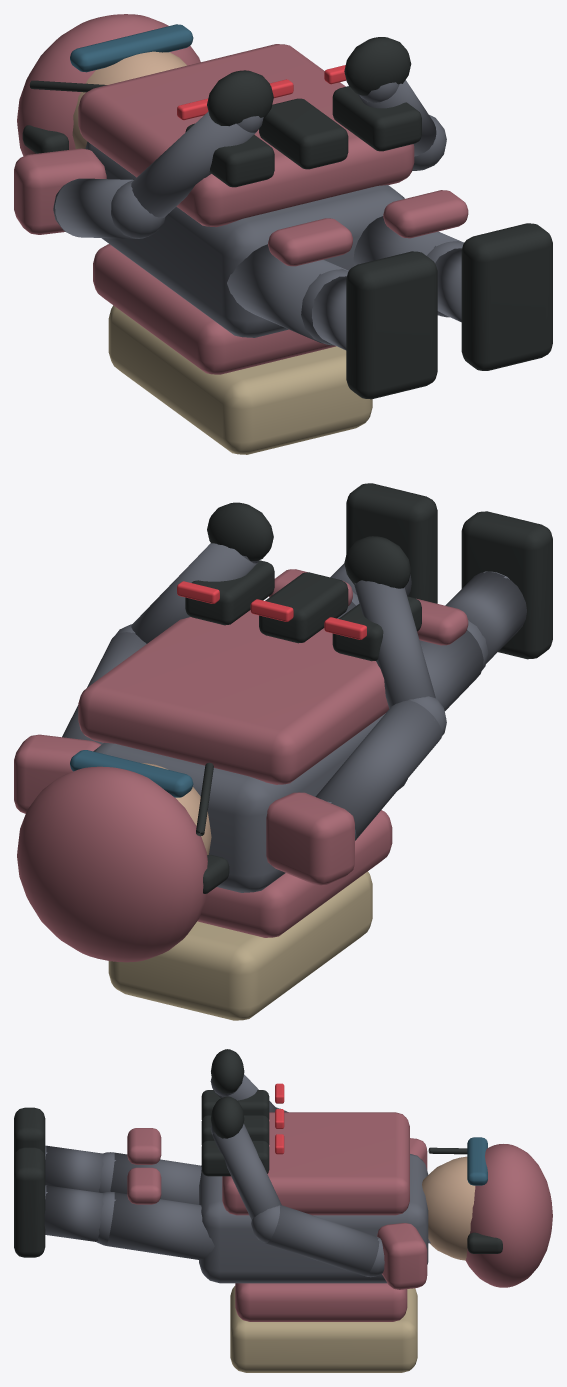
Rendered from character_enemy_final.glb.
3 views of the same model, one above another, from view 1: azimuth 30°, elevation 25°; view 2: azimuth 150°, elevation 25°; view 3: azimuth 270°, elevation 25° (orthographic). The views are drawn at different scales.
Parts seen in each view (by area): view 1: front_plate_carrier_with_beveled_ceramic_panel, hydration_backpack_and_radio_pack, anatomical_torso_underlayer, boot_with_sculpted_sole_-0.18, boot_with_sculpted_sole_0.18, rear_plate_carrier_panel, ballistic_helmet_shell, forearm_glove_sleeve_-0.39, upper_leg_fatigues_-0.18, shoulder_armor_pad_-0.39, front_magazine_pouch_0, front_magazine_pouch_0.23 (+17 smaller); view 2: front_plate_carrier_with_beveled_ceramic_panel, ballistic_helmet_shell, hydration_backpack_and_radio_pack, anatomical_torso_underlayer, boot_with_sculpted_sole_-0.18, upper_arm_cloth_-0.39, rear_plate_carrier_panel, shoulder_armor_pad_-0.39, boot_with_sculpted_sole_0.18, forearm_glove_sleeve_-0.39, front_magazine_pouch_0, lower_leg_boot_gaiter_-0.18 (+16 smaller); view 3: front_plate_carrier_with_beveled_ceramic_panel, hydration_backpack_and_radio_pack, anatomical_torso_underlayer, ballistic_helmet_shell, rear_plate_carrier_panel, upper_leg_fatigues_0.18, upper_arm_cloth_0.39, human_face_visible_under_helmet, boot_with_sculpted_sole_0.18, forearm_glove_sleeve_0.39, lower_leg_boot_gaiter_0.18, shoulder_armor_pad_0.39 (+16 smaller).
Part boxes in pixels (x1=…): front_plate_carrier_with_beveled_ceramic_panel: x1=78, y1=44, x2=414, y2=227; hydration_backpack_and_radio_pack: x1=108, y1=305, x2=372, y2=454; anatomical_torso_underlayer: x1=85, y1=141, x2=404, y2=337; boot_with_sculpted_sole_-0.18: x1=346, y1=251, x2=437, y2=399; boot_with_sculpted_sole_0.18: x1=461, y1=223, x2=552, y2=370; rear_plate_carrier_panel: x1=93, y1=244, x2=335, y2=374; ballistic_helmet_shell: x1=17, y1=14, x2=200, y2=156; forearm_glove_sleeve_-0.39: x1=131, y1=111, x2=256, y2=218; upper_leg_fatigues_-0.18: x1=227, y1=244, x2=348, y2=343; shoulder_armor_pad_-0.39: x1=14, y1=148, x2=106, y2=234; front_magazine_pouch_0: x1=259, y1=98, x2=348, y2=169; front_magazine_pouch_0.23: x1=332, y1=86, x2=421, y2=151; front_plate_carrier_with_beveled_ceramic_panel: x1=78, y1=610, x2=388, y2=784; ballistic_helmet_shell: x1=17, y1=766, x2=207, y2=962; hydration_backpack_and_radio_pack: x1=108, y1=871, x2=372, y2=1020; anatomical_torso_underlayer: x1=93, y1=713, x2=407, y2=892; boot_with_sculpted_sole_-0.18: x1=461, y1=511, x2=552, y2=659; upper_arm_cloth_-0.39: x1=315, y1=700, x2=441, y2=840; rear_plate_carrier_panel: x1=197, y1=810, x2=392, y2=937; shoulder_armor_pad_-0.39: x1=266, y1=792, x2=354, y2=885; boot_with_sculpted_sole_0.18: x1=346, y1=483, x2=437, y2=603; forearm_glove_sleeve_-0.39: x1=354, y1=580, x2=435, y2=708; front_magazine_pouch_0: x1=259, y1=572, x2=348, y2=643; lower_leg_boot_gaiter_-0.18: x1=445, y1=571, x2=526, y2=663; front_plate_carrier_with_beveled_ceramic_panel: x1=222, y1=1112, x2=409, y2=1215; hydration_backpack_and_radio_pack: x1=230, y1=1286, x2=417, y2=1372; anatomical_torso_underlayer: x1=199, y1=1154, x2=428, y2=1283; ballistic_helmet_shell: x1=465, y1=1144, x2=552, y2=1287; rear_plate_carrier_panel: x1=235, y1=1283, x2=407, y2=1321; upper_leg_fatigues_0.18: x1=106, y1=1192, x2=214, y2=1260; upper_arm_cloth_0.39: x1=265, y1=1205, x2=379, y2=1275; human_face_visible_under_helmet: x1=422, y1=1156, x2=475, y2=1260; boot_with_sculpted_sole_0.18: x1=14, y1=1147, x2=45, y2=1257; forearm_glove_sleeve_0.39: x1=212, y1=1123, x2=281, y2=1219; lower_leg_boot_gaiter_0.18: x1=44, y1=1185, x2=103, y2=1241; shoulder_armor_pad_0.39: x1=377, y1=1223, x2=427, y2=1289.
Size of the model in its own units: 1.03 by 1.17 by 2.07.
